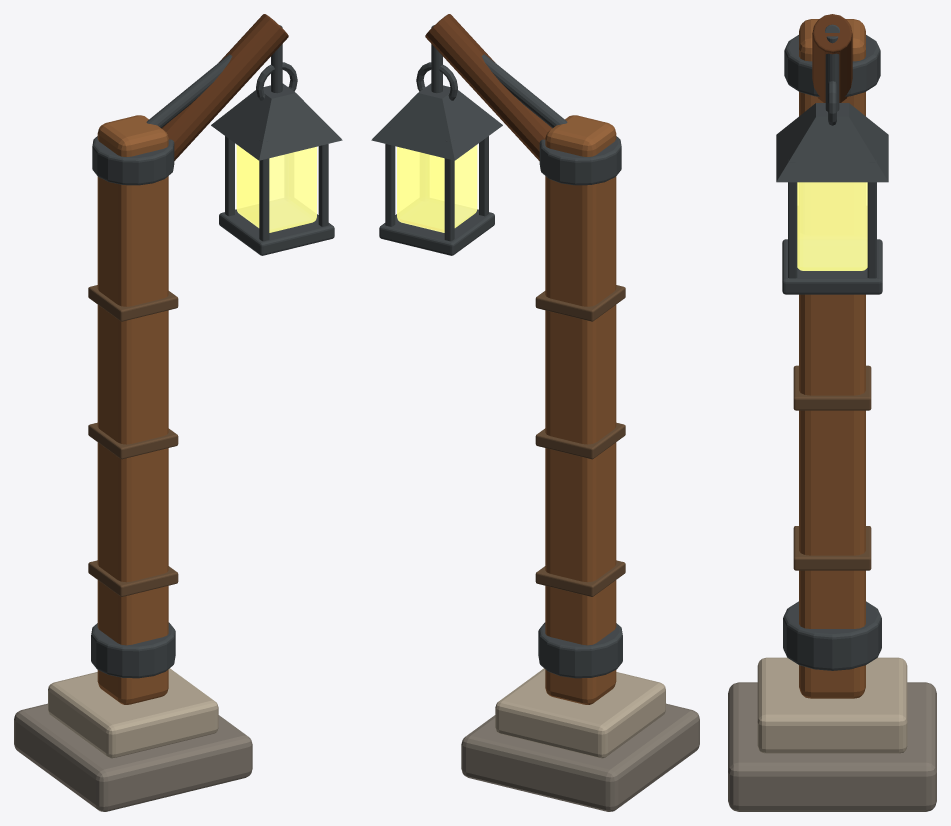
The picture shows the model from 3 angles, left to right: view 1: azimuth 30°, elevation 25°; view 2: azimuth 150°, elevation 25°; view 3: azimuth 270°, elevation 25°; orthographic projection. The views are drawn at different scales.
Visible parts, largest first — view 1: WK_TimberPostLamp_LOD0_High; view 2: WK_TimberPostLamp_LOD0_High; view 3: WK_TimberPostLamp_LOD0_High.
Boxes of the visible parts, <box> form: WK_TimberPostLamp_LOD0_High: <box>14,14,342,811</box>; WK_TimberPostLamp_LOD0_High: <box>371,14,699,811</box>; WK_TimberPostLamp_LOD0_High: <box>728,14,936,811</box>.
Bounding box in the file's own units: 1.32 × 3.44 × 0.78.
